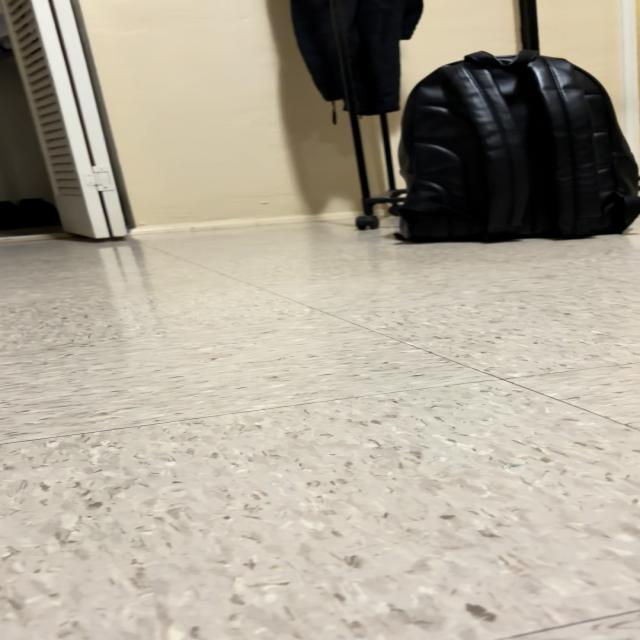backpack: (400, 51, 639, 241)
